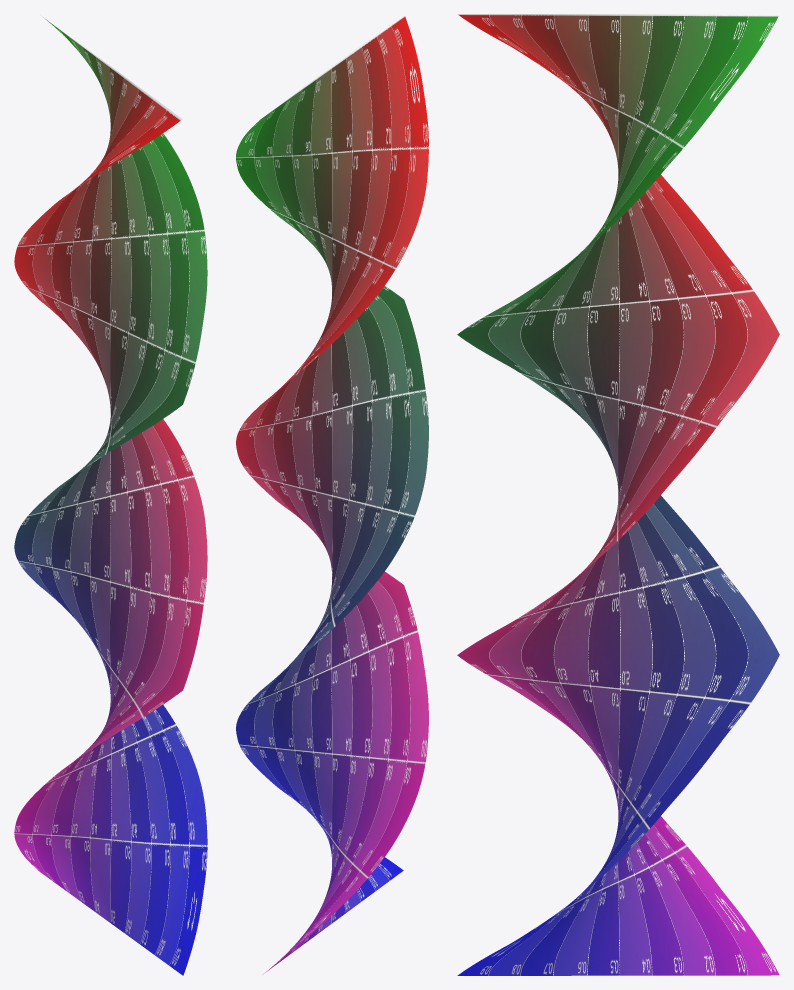
Rendered from dna.glb.
3 views of the same model, side by side, from view 1: azimuth 30°, elevation 25°; view 2: azimuth 150°, elevation 25°; view 3: azimuth 270°, elevation 25° (orthographic). The views are drawn at different scales.
Parts seen in each view (by area): view 1: twist1_1; view 2: twist1_1; view 3: twist1_1.
Part boxes in pixels (<box>): twist1_1: <box>14,16,207,975</box>; twist1_1: <box>236,14,428,973</box>; twist1_1: <box>457,14,779,975</box>.
Bounding box in the file's own units: 4 × 19.78 × 6.02.
1 material, 1 textured.
